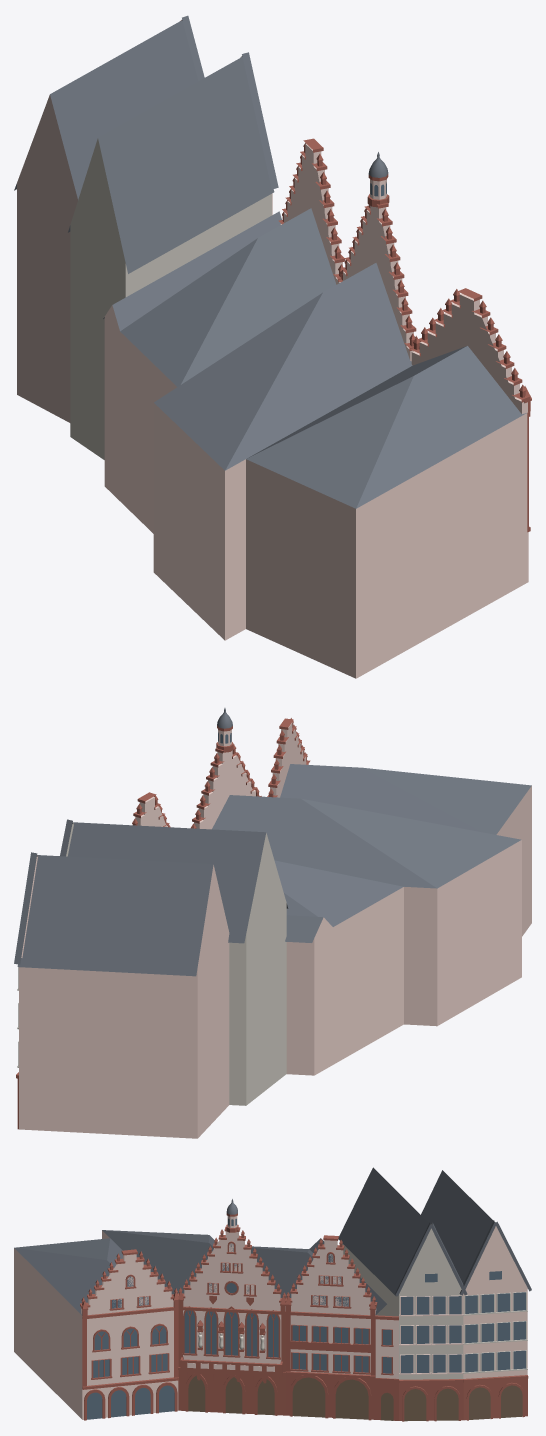
File: frankfurt-roemer.detail.glb
The picture shows the model from 3 angles, top to bottom: view 1: azimuth 30°, elevation 25°; view 2: azimuth 150°, elevation 25°; view 3: azimuth 270°, elevation 25°; orthographic projection. The views are drawn at different scales.
Visible parts, largest first — view 1: Römer; view 2: Römer; view 3: Römer.
Boxes of the visible parts, x1,y1,x2,y2 form: Römer: (14,15,531,678); Römer: (14,708,531,1138); Römer: (14,1167,531,1421).
Size of the model in its own units: 24.37 by 27.65 by 60.86.
